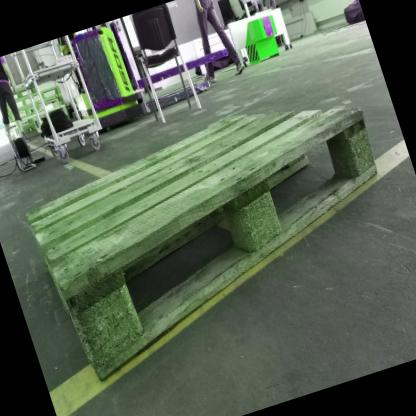BoxFace: (22, 104, 378, 385)
